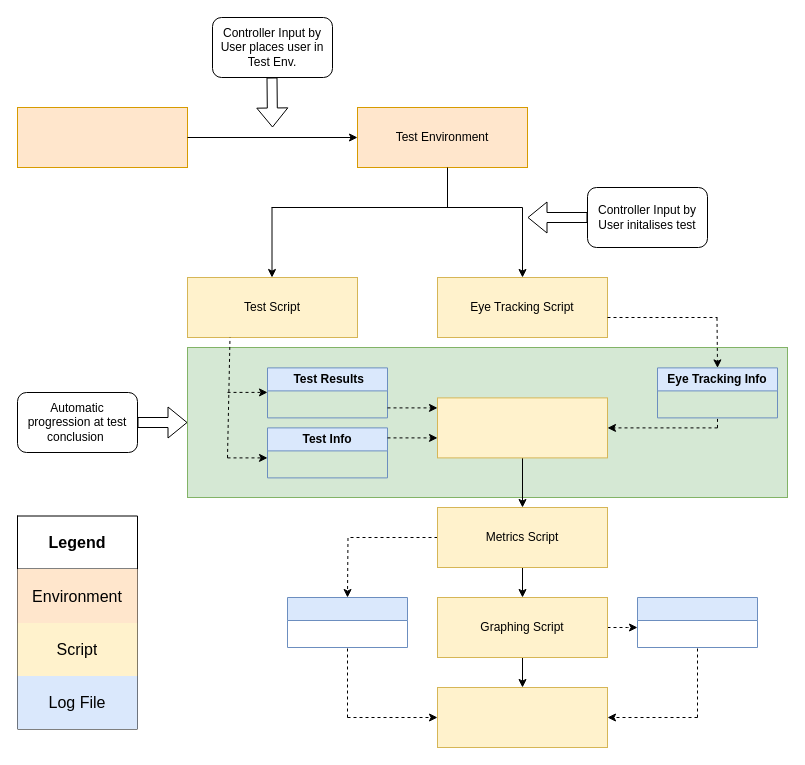
This 805x765 diagram has some shape labels left out. The centre of each missing label's shape, as x and y in pixels:
Data Processing Script: [522,427]
Menu Environment Launched: [102,137]
Metrics: [347,622]
PDF Generation Script: [522,717]
Visuals: [697,622]
